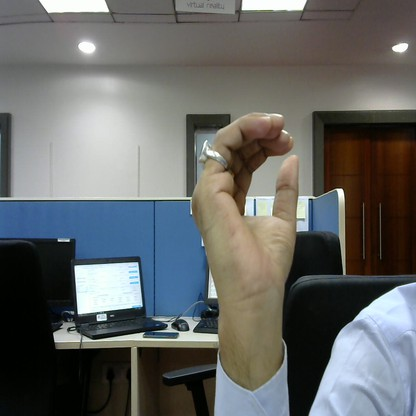c: (190, 109, 305, 314)
